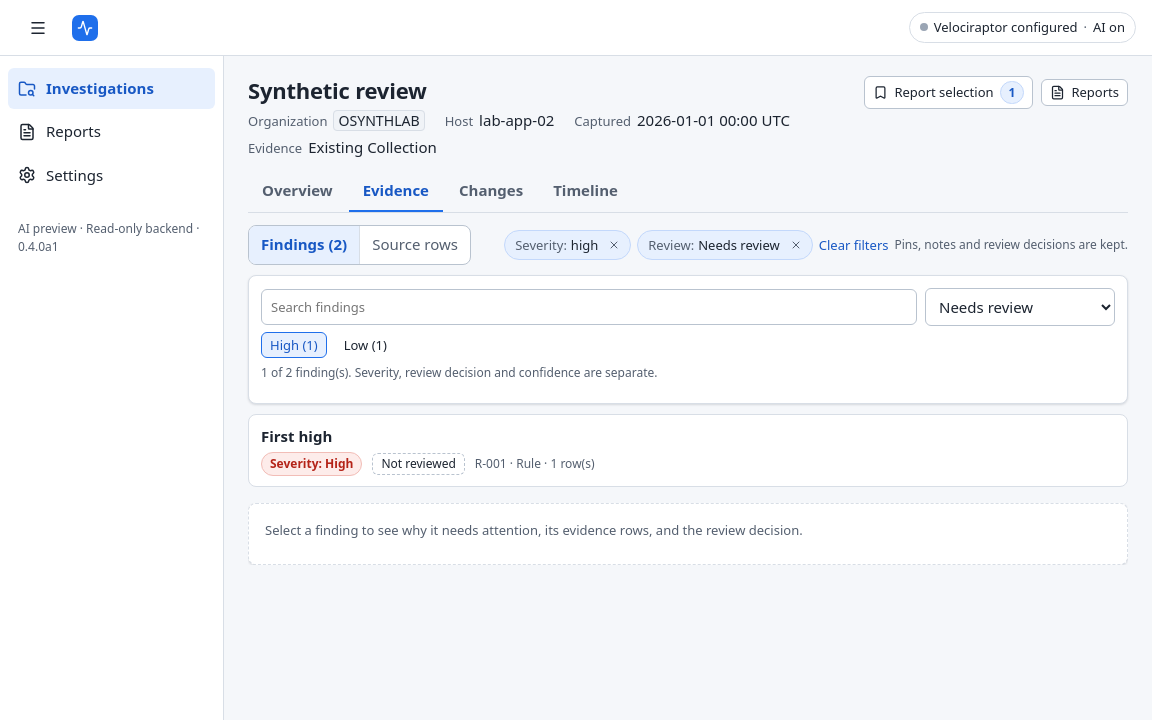
Scenario: investigation workspace › clear filters keeps pins and never asks a model
Expected: the text "Pins, notes and review decisions are kept." is shown, [894,236,1128,254]
Click the button "Clear filters".
click(854, 245)  # box [819,236,889,253]
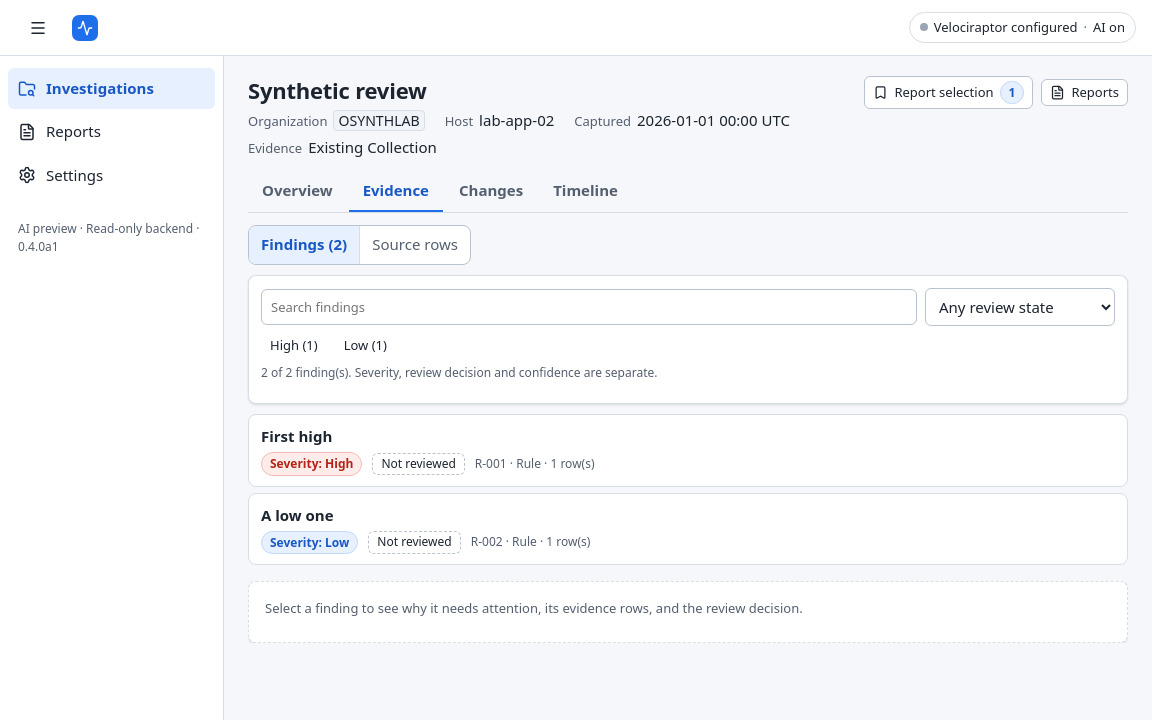
Expected: the button "Report selection 1" is shown, [864,76,1033,109]
Expected: the text "A low one" is shown, [261,504,334,524]
